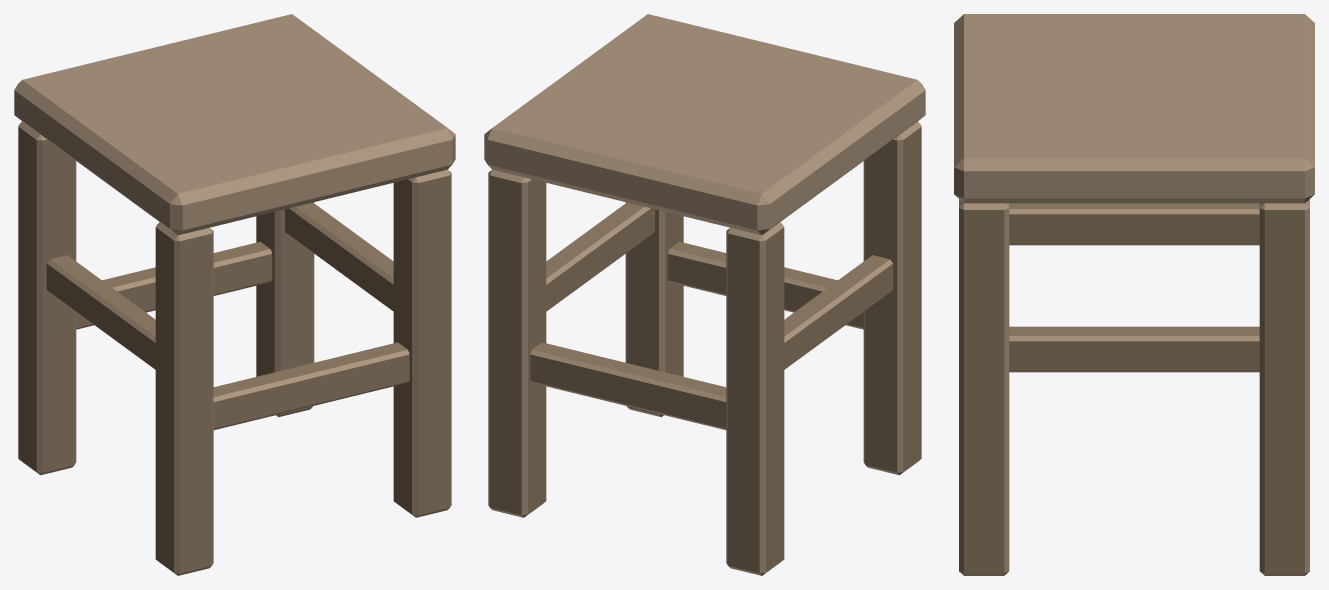
Rendered from stool_2.glb.
The picture shows the model from 3 angles, left to right: view 1: azimuth 30°, elevation 25°; view 2: azimuth 150°, elevation 25°; view 3: azimuth 270°, elevation 25°; orthographic projection. The views are drawn at different scales.
Visible parts, largest first — view 1: Stool_2; view 2: Stool_2; view 3: Stool_2.
Part boxes in pixels (box(x1,y1,x2,y2)): Stool_2: box(14, 14, 455, 575); Stool_2: box(484, 14, 925, 575); Stool_2: box(954, 14, 1314, 575).
Bounding box in the file's own units: 0.36 × 0.46 × 0.36.
